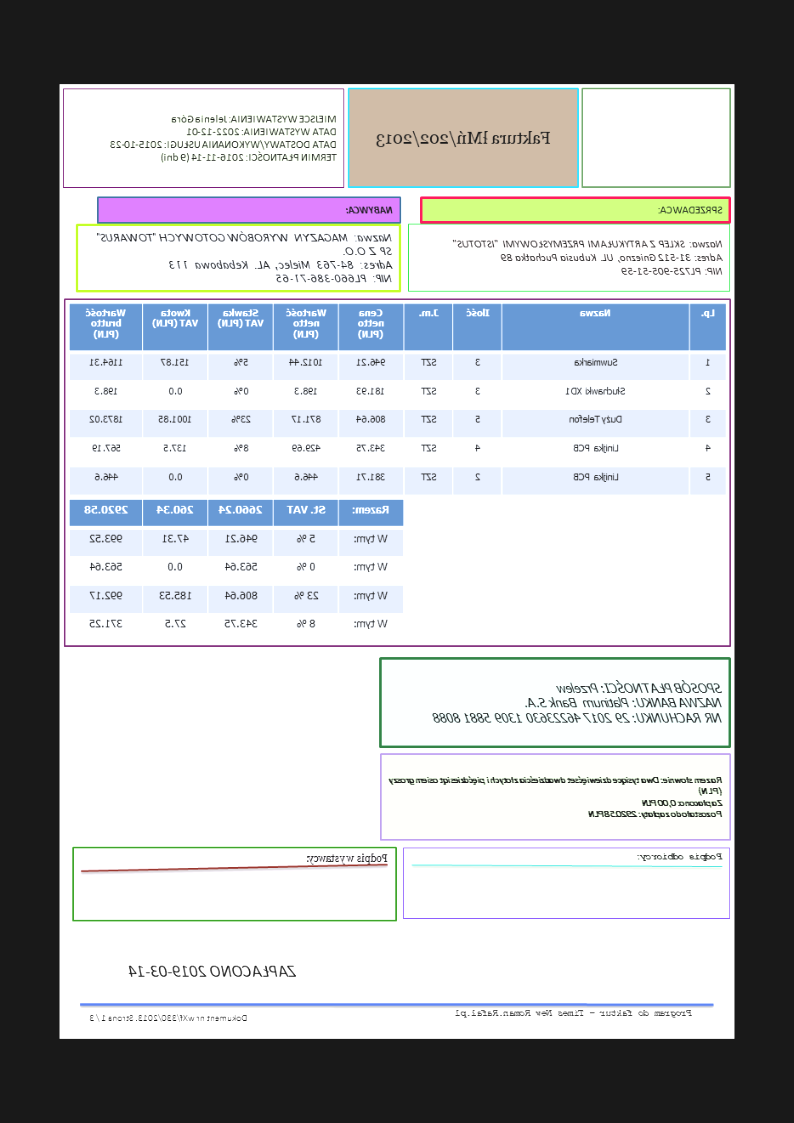Table: (70, 302, 728, 497), (69, 497, 405, 642)
TextBox: (95, 230, 394, 284), (387, 774, 724, 820), (431, 678, 724, 725), (108, 111, 339, 165), (451, 237, 725, 277), (376, 128, 553, 151), (455, 1007, 693, 1020), (128, 961, 298, 979), (88, 1012, 250, 1023), (305, 851, 388, 867), (637, 851, 725, 864), (658, 203, 724, 216), (345, 203, 394, 217)
